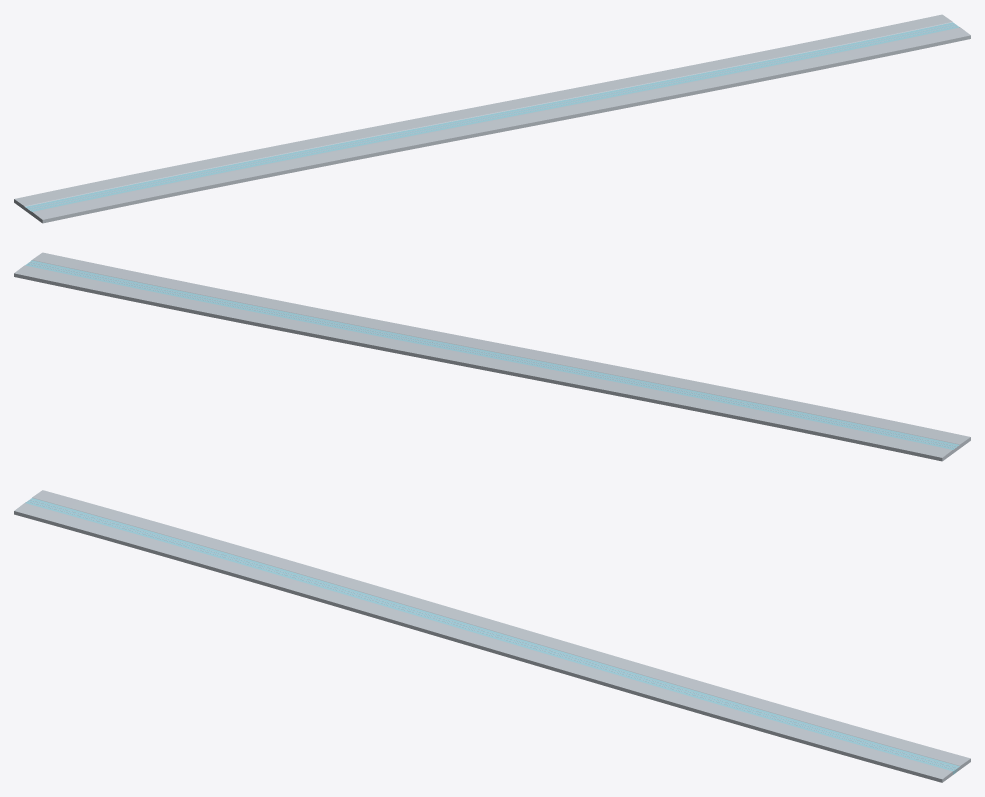
Rendered from Road_0_-1_-2.fbx.
The picture shows the model from 3 angles, top to bottom: view 1: azimuth 30°, elevation 25°; view 2: azimuth 150°, elevation 25°; view 3: azimuth 330°, elevation 25°; orthographic projection.
Visible parts, largest first — view 1: Road_0_-1_-2; view 2: Road_0_-1_-2; view 3: Road_0_-1_-2.
Boxes of the visible parts, x1,y1,x2,y2 form: Road_0_-1_-2: [14, 14, 970, 223]; Road_0_-1_-2: [14, 252, 970, 461]; Road_0_-1_-2: [14, 490, 970, 782].
Size of the model in its own units: 60008 by 2830 by 3200.
